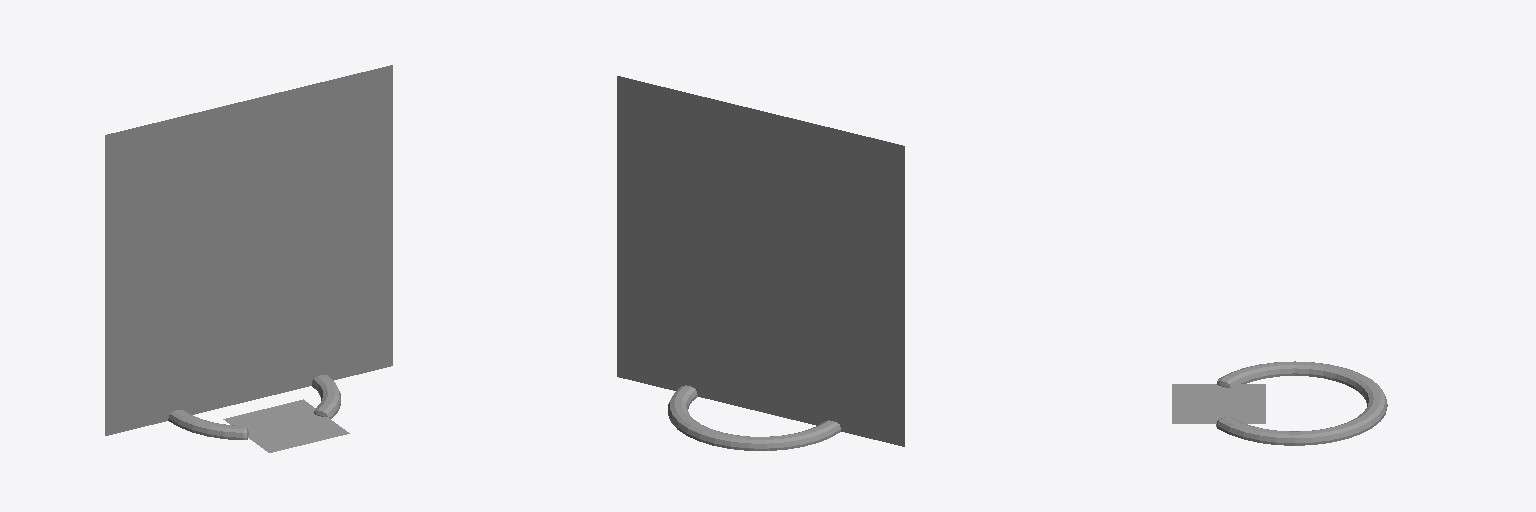
The picture shows the model from 3 angles: view 1: azimuth 30°, elevation 25°; view 2: azimuth 150°, elevation 25°; view 3: azimuth 270°, elevation 25°; orthographic projection.
Visible parts, largest first — view 1: 0FRONT_Plane.002, 1BACK_Plane.004, 0BASE_ICON_Cylinder.005, 0BASE_Cylinder.006; view 2: 1BACK_Plane.004, 0FRONT_Plane.002, 0BASE_Cylinder.006; view 3: 0BASE_Cylinder.006, 0BASE_ICON_Cylinder.005.
Boxes of the visible parts, box(x1,y1,x2,y2) form: 0FRONT_Plane.002: box(105, 65, 392, 401); 1BACK_Plane.004: box(105, 268, 274, 435); 0BASE_ICON_Cylinder.005: box(223, 399, 349, 452); 0BASE_Cylinder.006: box(168, 375, 340, 438); 1BACK_Plane.004: box(617, 76, 904, 415); 0FRONT_Plane.002: box(732, 289, 904, 446); 0BASE_Cylinder.006: box(668, 385, 840, 450); 0BASE_Cylinder.006: box(1229, 361, 1387, 445); 0BASE_ICON_Cylinder.005: box(1172, 384, 1265, 423).
Size of the model in its own units: 3.58 by 3.58 by 2.31.